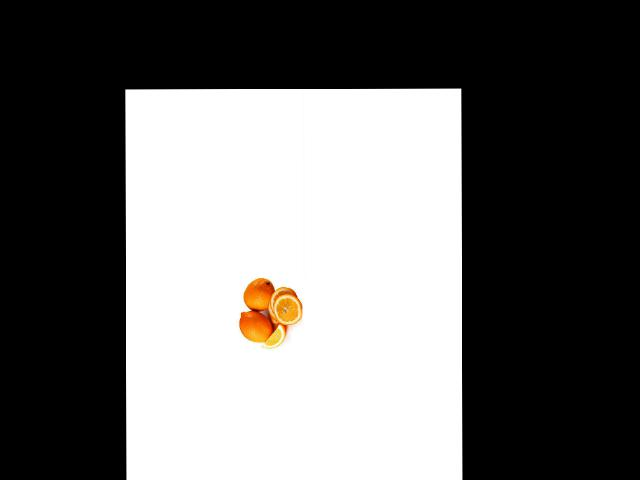lemon: (243, 279, 273, 314)
